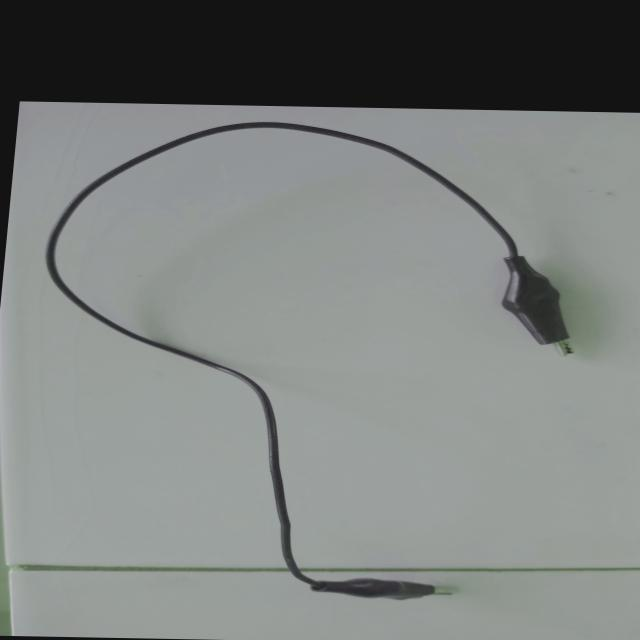BNC Cables Both Clips: (0, 111, 628, 616)
